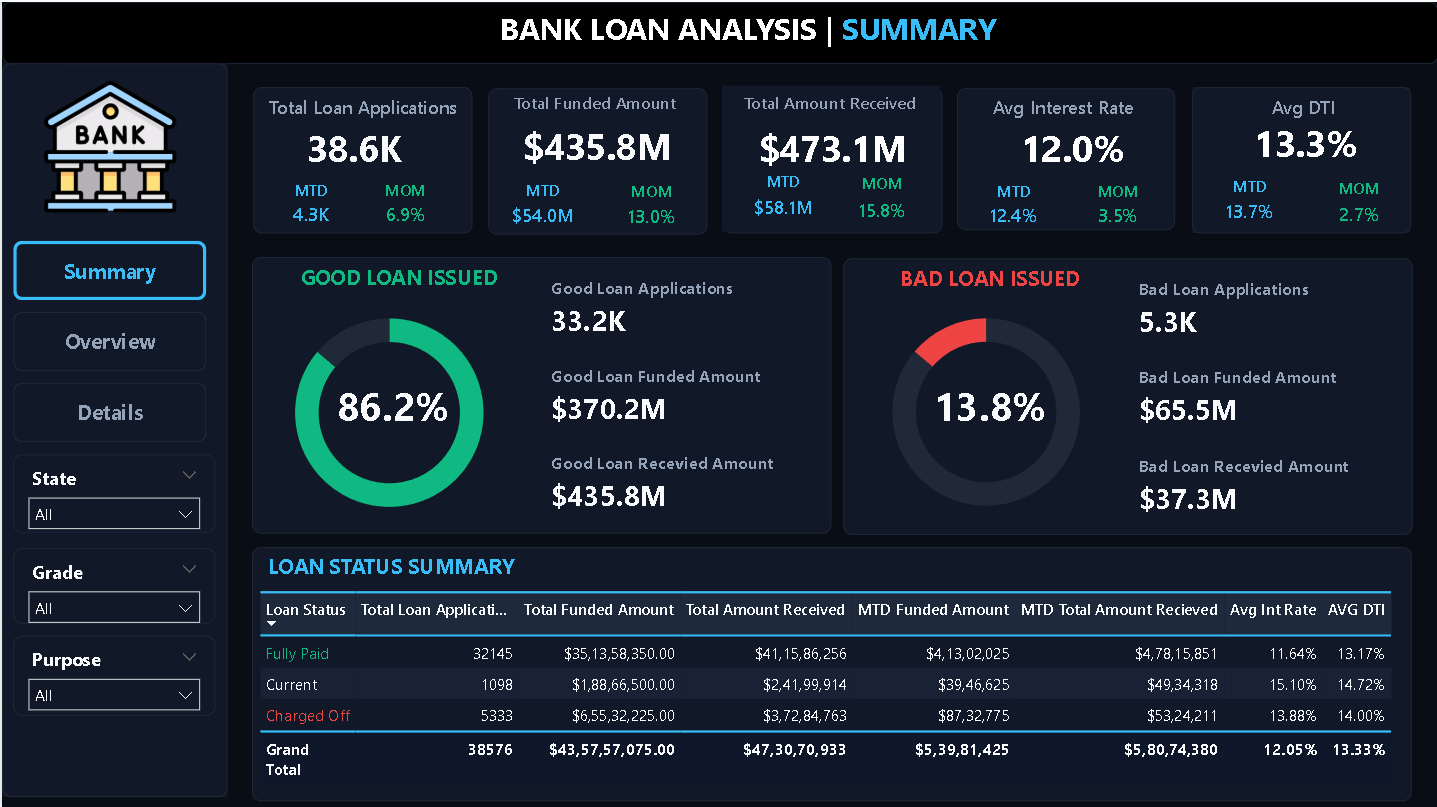

The page's visual inventory and layout, read from the dashboard file:
{"tool":"powerbi","page":{"name":"Summary","canvas":[1280,720],"ordinal":0},"visuals":[{"type":"shape","box":[223.3,75.3,195.3,130.2],"z":0},{"type":"shape","box":[1059.3,75.9,195,130],"z":0,"group":"g2"},{"type":"shape","box":[850.4,76.6,194.3,126.7],"z":0,"group":"g1"},{"type":"shape","box":[642,75.6,195,130.2],"z":1000},{"type":"card","fields":{"Values":["bank_loan_data.AVG DTI"]},"box":[1065.5,97.7,189.5,56.3],"z":1000,"group":"g2"},{"type":"card","fields":{"Values":["bank_loan_data.Avg Int Rate"]},"box":[861.7,98.4,183.7,63.3],"z":1000,"group":"g1"},{"type":"card","fields":{"Values":["bank_loan_data.Total Amount Received"]},"box":[644.1,98.4,192.4,65.6],"z":2000,"group":"g6"},{"type":"shape","box":[748.8,227.9,507,246.5],"z":2000},{"type":"shape","box":[432.5,77,195,130],"z":3000},{"type":"card","title":"MTD","fields":{"Values":["bank_loan_data.MTD Avg DTI"]},"box":[1076.7,154.8,67.4,49.4],"z":3000,"group":"g2"},{"type":"card","title":"MTD","fields":{"Values":["bank_loan_data.MTD Avg Interst Rate"]},"box":[868.8,158.8,63.4,47.8],"z":3000,"group":"g1"},{"type":"card","title":"MOM","fields":{"Values":["bank_loan_data.MOM Avg DTI"]},"box":[1174.8,157,66.5,49.4],"z":4000,"group":"g2"},{"type":"card","title":"MOM","fields":{"Values":["bank_loan_data.MOM Avg Int Rate"]},"box":[964.9,158.8,57.9,47.8],"z":4000,"group":"g1"},{"type":"textbox","box":[750,227.9,260.5,38.4],"z":4000},{"type":"card","title":"MTD","fields":{"Values":["bank_loan_data.MTD Total Amount Recieved"]},"box":[663.1,151,67.2,51.5],"z":5000,"group":"g6"},{"type":"shape","box":[222.1,226.7,516.3,246.5],"z":5000},{"type":"card","title":"MOM","fields":{"Values":["bank_loan_data.MOM Total Amount Recieved"]},"box":[750.8,153.4,67.2,51.5],"z":6000,"group":"g6"},{"type":"donutChart","fields":{"Category":["bank_loan_data.Good Vs Bad Loan"],"Y":["bank_loan_data.Total Loan Applications"]},"box":[745.4,255.8,261.6,218.6],"z":6000},{"type":"card","fields":{"Values":["bank_loan_data.Total Loan Applications"]},"box":[225.6,100,176.7,60.7],"z":7000,"group":"g3"},{"type":"cardVisual","fields":{"Data":["bank_loan_data.Good Loan Applications","bank_loan_data.Good Loan Funded Amount","bank_loan_data.Good Loan Recevied Amount"]},"box":[472.1,227.9,258.1,246.5],"z":7000},{"type":"cardVisual","fields":{"Data":["bank_loan_data.Bad Loan Applications","bank_loan_data.Bad Loan Funded Amount","bank_loan_data.Bad Loan Recevied Amount"]},"box":[995.4,227.9,247.7,247.7],"z":8000},{"type":"card","fields":{"Values":["bank_loan_data.Total Funded Amount"]},"box":[432.6,95.3,194.2,66.3],"z":9000,"group":"g4"},{"type":"donutChart","fields":{"Category":["bank_loan_data.Good Vs Bad Loan"],"Y":["bank_loan_data.Total Loan Applications"]},"box":[214,255.8,262.8,219.8],"z":9000},{"type":"shape","box":[222.1,484.9,1032.6,226.7],"z":10000},{"type":"shape","box":[0,0,1280,55],"z":11000},{"type":"shape","box":[0,54.7,201.2,653.5],"z":12000},{"type":"textbox","box":[299.4,0,730.2,46.8],"z":13000},{"type":"textbox","box":[232.4,76.7,178.1,35.3],"z":13000,"group":"g3"},{"type":"textbox","box":[213,227,273.3,38.4],"z":14000},{"type":"group","id":"g1","title":"Group 1","box":[850.4,76.6,195,130],"z":15000},{"type":"card","title":"MTD","fields":{"Values":["bank_loan_data.MTD Loan Applications"]},"box":[244.9,158.3,61,47.5],"z":15000,"group":"g3"},{"type":"group","id":"g2","title":"Group 1","box":[1059.3,75.9,195.3,130.2],"z":16000},{"type":"card","fields":{"Values":["bank_loan_data.Good Loan %"]},"box":[250,311.6,195.3,96.5],"z":17000},{"type":"card","fields":{"Values":["bank_loan_data.Bad Loan %"]},"box":[782.6,311.6,194.2,96.5],"z":18000},{"type":"card","title":"MOM","fields":{"Values":["bank_loan_data.MoM Applications"]},"box":[329.1,158.3,59.9,47.5],"z":19000,"group":"g3"},{"type":"tableEx","fields":{"Values":["bank_loan_data.loan_status","bank_loan_data.Total Loan Applications","bank_loan_data.Total Funded Amount","bank_loan_data.Total Amount Received","bank_loan_data.MTD Funded Amount","bank_loan_data.MTD Total Amount Recieved","bank_loan_data.Avg Int Rate","bank_loan_data.AVG DTI"]},"box":[223.3,519.8,1037.2,189.5],"z":19000},{"type":"card","title":"MTD","fields":{"Values":["bank_loan_data.MTD Funded Amount"]},"box":[447.7,158.1,66.3,50],"z":20000,"group":"g4"},{"type":"textbox","box":[222.1,483.7,264,44.2],"z":20000},{"type":"card","title":"MOM","fields":{"Values":["bank_loan_data.MoM Total Funded Amount"]},"box":[545.4,159.3,66.3,50],"z":21000,"group":"g4"},{"type":"slicer","fields":{"Values":["bank_loan_data.address_state"]},"box":[10.5,403.5,180.2,69.8],"z":21000},{"type":"slicer","fields":{"Values":["bank_loan_data.grade"]},"box":[10.5,486,180.2,67.4],"z":22000},{"type":"slicer","fields":{"Values":["bank_loan_data.purpose"]},"box":[10.5,564,180.2,70.9],"z":23000},{"type":"pageNavigator","box":[10.5,212.8,172.1,181.4],"z":24000},{"type":"textbox","box":[852.3,76.7,189.5,34.9],"z":25000},{"type":"textbox","box":[1061.6,76.7,194.2,34.9],"z":26000},{"type":"image","box":[25.6,69.8,141.9,117.4],"z":27000},{"type":"group","id":"g3","title":"Group 2","box":[225.6,76.7,184.9,129.1],"z":28000},{"type":"group","id":"g4","title":"Group 3","box":[432.6,74.4,194.2,134.9],"z":29000},{"type":"group","id":"g5","title":"Group 4","box":[641.5,74.9,195,130],"z":30000},{"type":"textbox","box":[432.6,74.4,190.7,34.9],"z":35000,"group":"g4"},{"type":"textbox","box":[641.5,74.9,192.4,35.1],"z":36000,"group":"g6"},{"type":"group","id":"g6","title":"Group 5","box":[641.5,74.9,195,130],"z":39004,"group":"g5"}]}

Visuals, with their boxes in screenshot pixels (x1, y1, x2, y2), scaled from the page's 1280x720 canvas onto the 1437x807 screenshot:
shape: [251,84,470,230]
shape: [1189,85,1408,231]
shape: [955,86,1173,228]
shape: [721,85,940,231]
card - bank_loan_data.AVG DTI: [1196,110,1409,173]
card - bank_loan_data.Avg Int Rate: [967,110,1174,181]
card - bank_loan_data.Total Amount Received: [723,110,939,184]
shape: [841,255,1410,532]
shape: [486,86,704,232]
"MTD" card: [1209,174,1284,229]
"MTD" card: [975,178,1047,232]
"MOM" card: [1319,176,1394,231]
"MOM" card: [1083,178,1148,232]
textbox: [842,255,1134,298]
"MTD" card: [744,169,820,227]
shape: [249,254,829,530]
"MOM" card: [843,172,918,230]
donutChart - bank_loan_data.Good Vs Bad Loan x bank_loan_data.Total Loan Applications: [837,287,1131,532]
card - bank_loan_data.Total Loan Applications: [253,112,452,180]
cardVisual - bank_loan_data.Good Loan Applications x bank_loan_data.Good Loan Funded Amount: [530,255,820,532]
cardVisual - bank_loan_data.Bad Loan Applications x bank_loan_data.Bad Loan Funded Amount: [1117,255,1396,533]
card - bank_loan_data.Total Funded Amount: [486,107,704,181]
donutChart - bank_loan_data.Good Vs Bad Loan x bank_loan_data.Total Loan Applications: [240,287,535,533]
shape: [249,543,1409,798]
shape: [0,0,1436,62]
shape: [0,61,226,794]
textbox: [336,0,1156,52]
textbox: [261,86,461,126]
textbox: [239,254,546,297]
"Group 1" group: [955,86,1174,232]
"MTD" card: [275,177,343,231]
"Group 1" group: [1189,85,1408,231]
card - bank_loan_data.Good Loan %: [281,349,500,457]
card - bank_loan_data.Bad Loan %: [879,349,1097,457]
"MOM" card: [369,177,437,231]
tableEx - bank_loan_data.loan_status x bank_loan_data.Total Loan Applications: [251,583,1415,795]
"MTD" card: [503,177,577,233]
textbox: [249,542,546,592]
"MOM" card: [612,179,687,235]
slicer - bank_loan_data.address_state: [12,452,214,530]
slicer - bank_loan_data.grade: [12,545,214,620]
slicer - bank_loan_data.purpose: [12,632,214,712]
pageNavigator: [12,239,205,442]
textbox: [957,86,1170,125]
textbox: [1192,86,1410,125]
image: [29,78,188,210]
"Group 2" group: [253,86,461,231]
"Group 3" group: [486,83,704,235]
"Group 4" group: [720,84,939,230]
textbox: [486,83,700,123]
textbox: [720,84,936,123]
"Group 5" group: [720,84,939,230]
